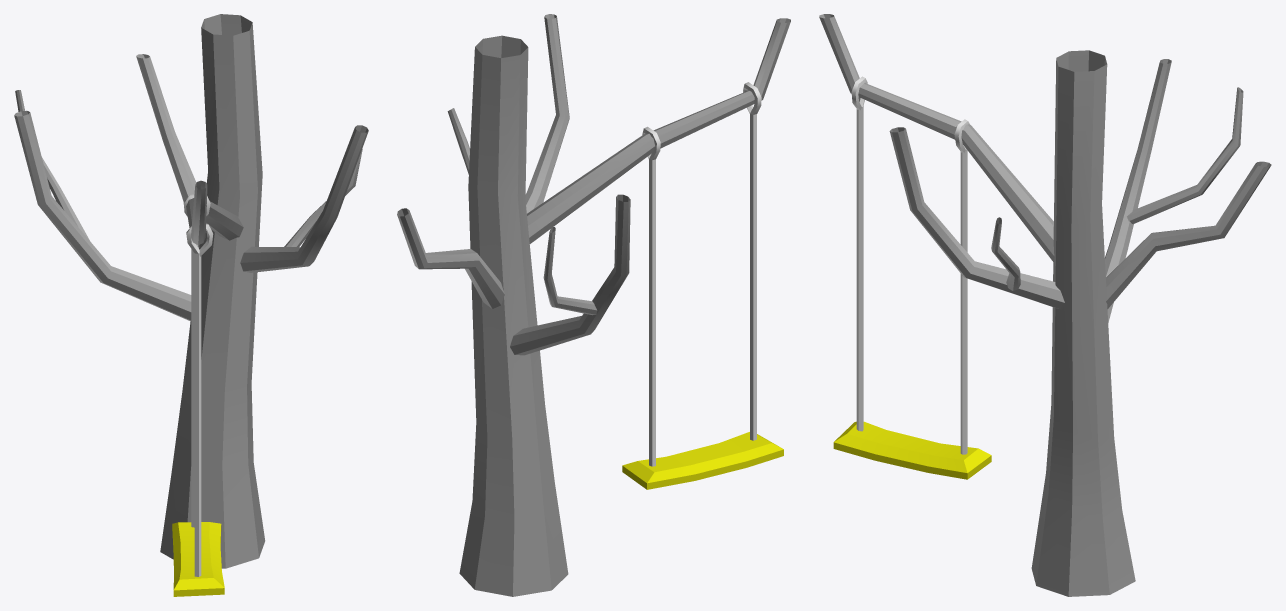
The model's file is BedRoom_Tree.fbx.
The picture shows the model from 3 angles, left to right: view 1: azimuth 30°, elevation 25°; view 2: azimuth 150°, elevation 25°; view 3: azimuth 270°, elevation 25°; orthographic projection.
Visible parts, largest first — view 1: BedRoom_Tree; view 2: BedRoom_Tree; view 3: BedRoom_Tree.
Boxes of the visible parts, <box> form: BedRoom_Tree: <box>14,14,368,596</box>; BedRoom_Tree: <box>397,14,790,596</box>; BedRoom_Tree: <box>819,14,1271,596</box>.
Bounding box in the file's own units: 210 × 396 × 312.
